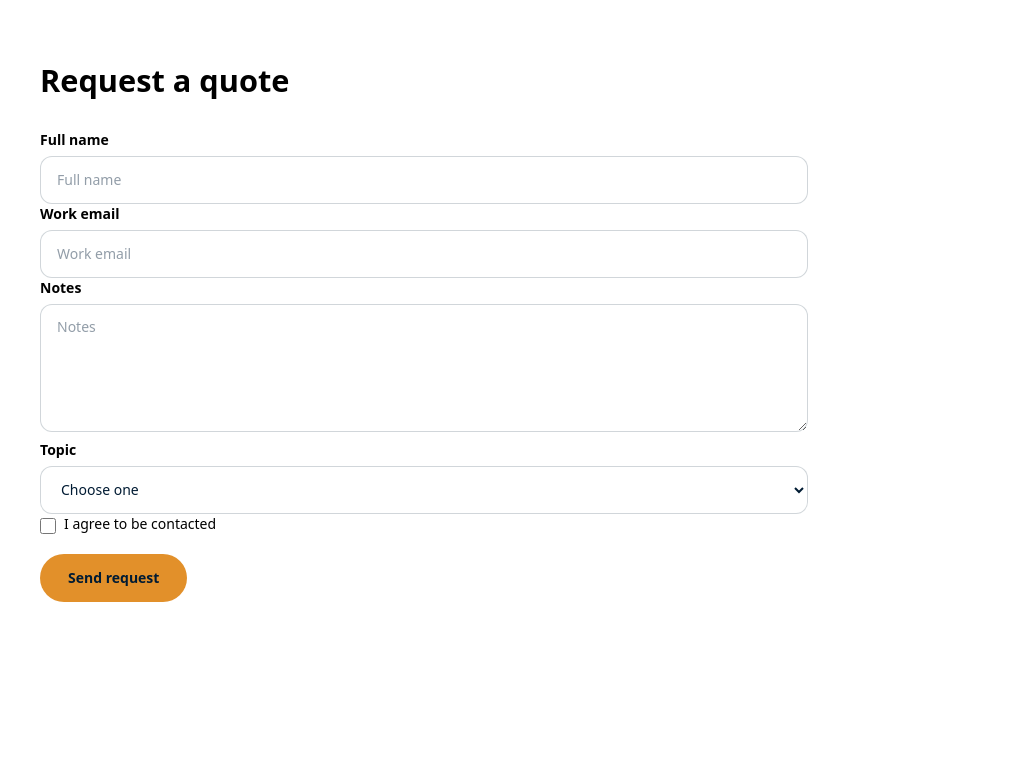
FormBlockClient › submits through submitFormAction bound to this block's formKey, and shows the definition's success message
In the field with placeholder "Full name": (424, 180) [40,156,808,204], type "Ada Lovelace"
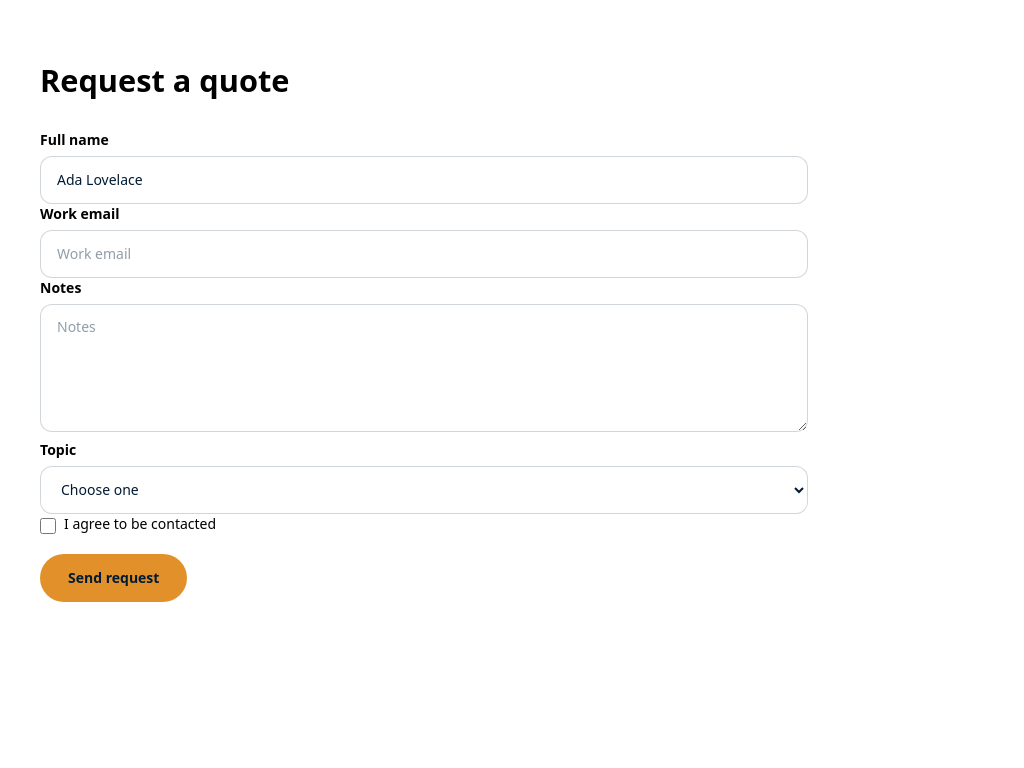
In the field with placeholder "Work email": (424, 254) [40,230,808,278], type "ada@example.com"
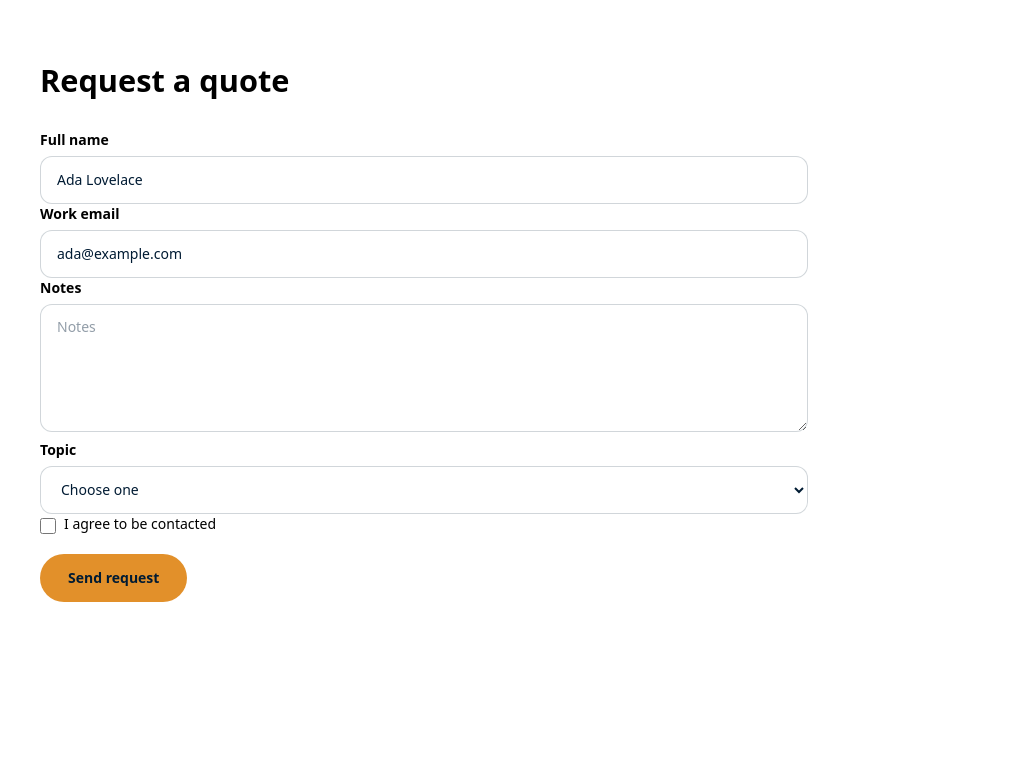
Select "Sales" in the dropdown: (424, 490) [40,466,808,514]
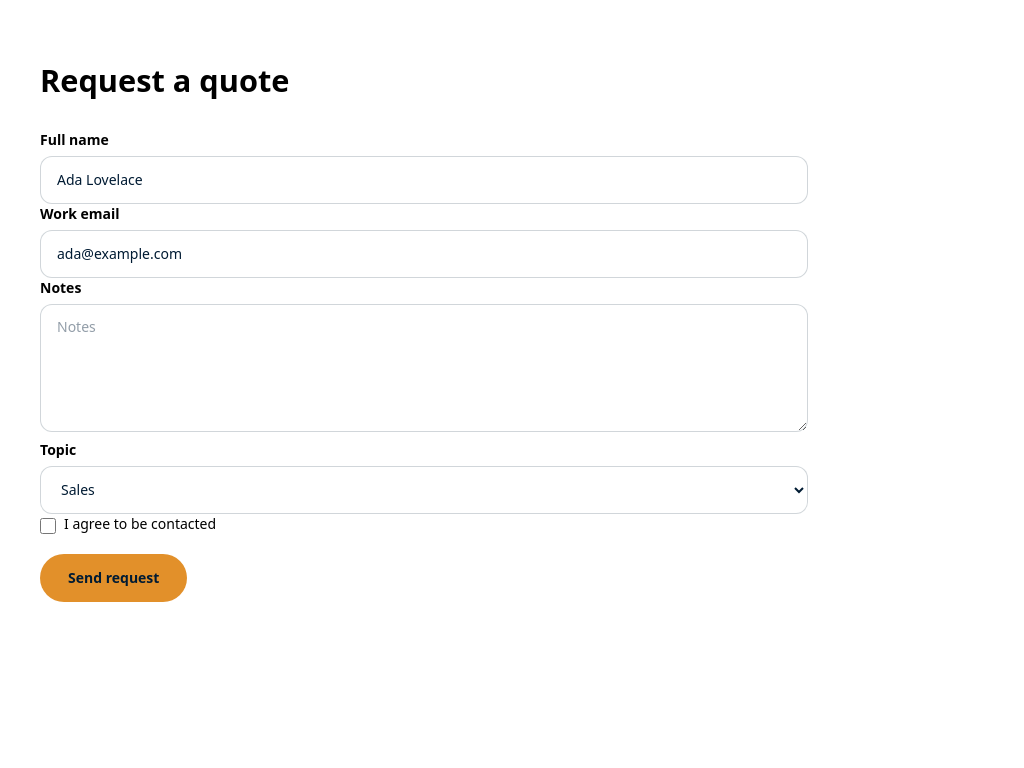
Click the checkbox labelled "I agree to be contacted": (48, 526) [40,518,56,534]
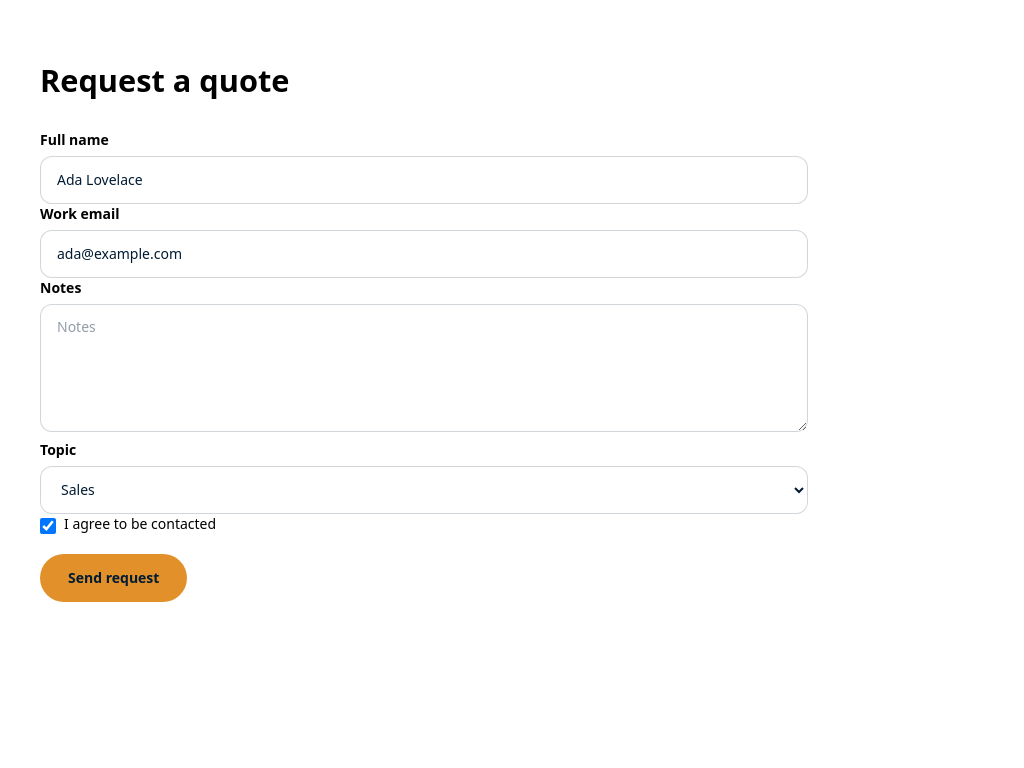
Click the button "Send request": (114, 578) [40,554,187,602]
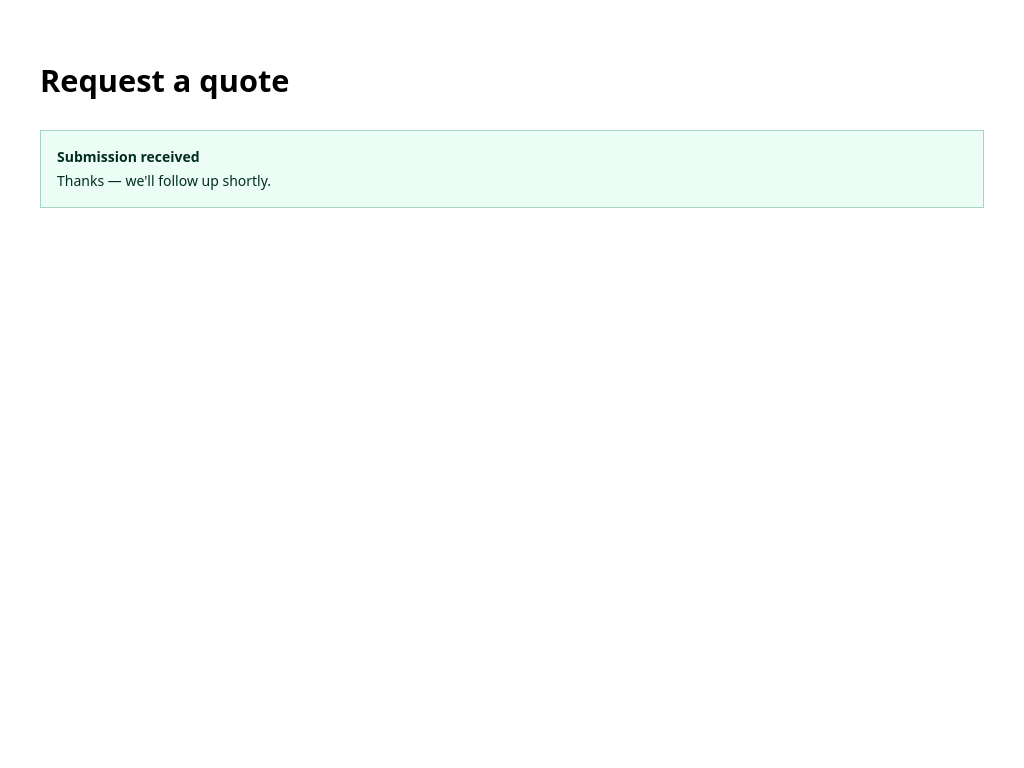
Check: the text "Thanks — we'll follow up shortly." is shown, box [57,171,271,190]
